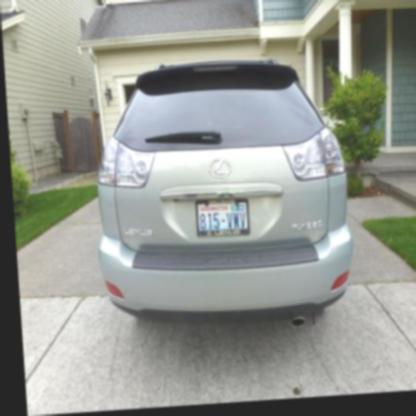License_Plate: (195, 197, 251, 238)
